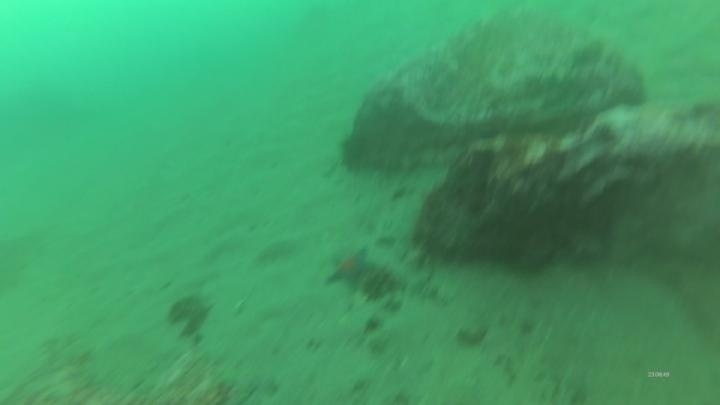starfish: (323, 244, 378, 296)
